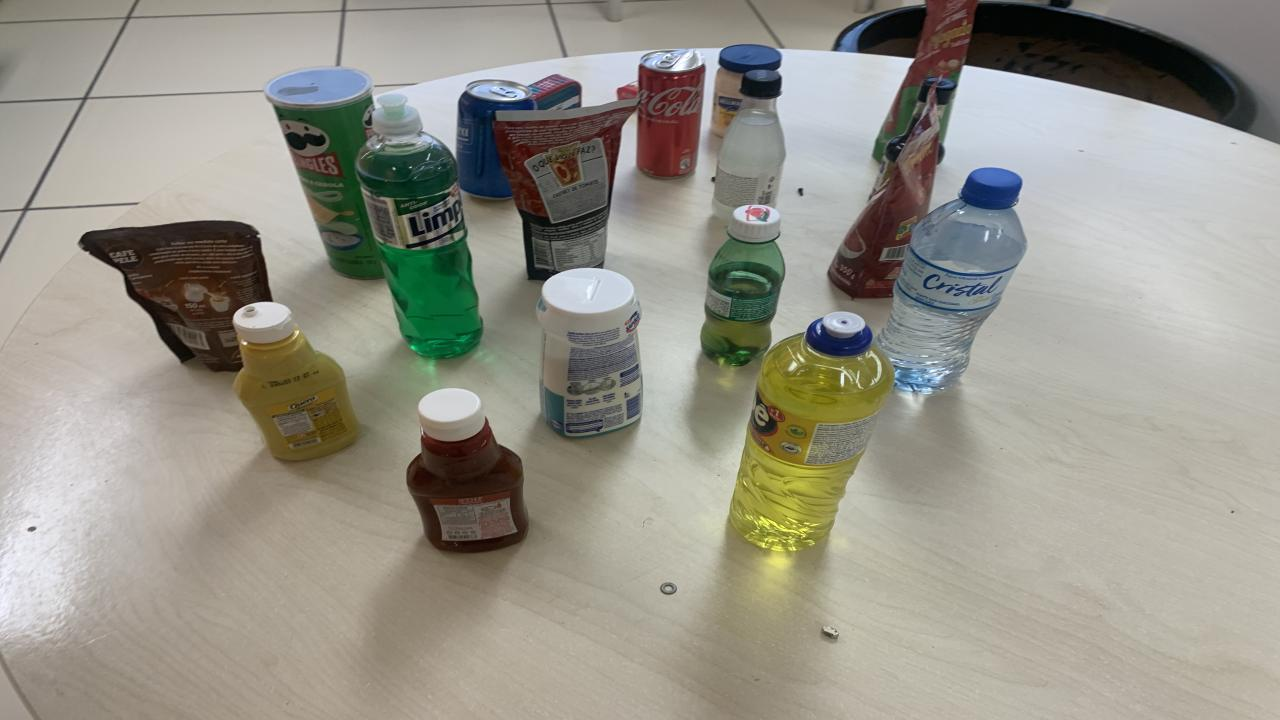Cleaner-Cleanup_Items: (538, 268, 642, 437)
Coffee-Pantry_Items: (80, 221, 270, 371)
Coke-Drinks: (638, 49, 705, 178)
Detergent-Cleanup_Items: (730, 311, 895, 551), (355, 94, 482, 358)
Guarana-Drinks: (700, 204, 785, 366)
Ketchup-Pantry_Items: (408, 388, 528, 553)
Mayonnaise-Pantry_Items: (710, 45, 782, 135)
Mustard-Pantry_Items: (232, 302, 360, 459)
Pringles-Snacks: (265, 68, 382, 279)
Soda-Drinks: (712, 69, 785, 219)
Tomato_Sauce-Pantry_Items: (495, 99, 638, 279), (828, 98, 942, 298), (872, 0, 978, 161)
Tonic-Drinks: (455, 79, 535, 199)
Tuna_Can-Pantry_Items: (528, 73, 582, 111)
Water_Bottle-Drinks: (878, 167, 1028, 394)
